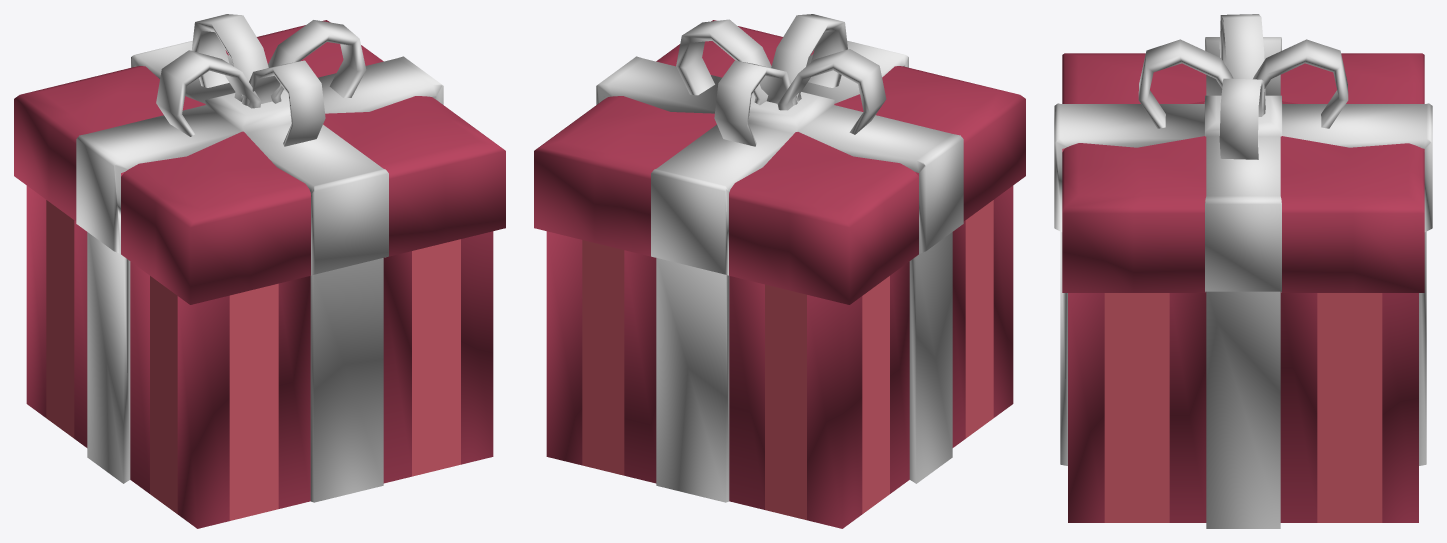
The model's file is presente.fbx.
The picture shows the model from 3 angles, left to right: view 1: azimuth 30°, elevation 25°; view 2: azimuth 150°, elevation 25°; view 3: azimuth 270°, elevation 25°; orthographic projection. The views are drawn at different scales.
Parts seen in each view (by area): view 1: Cube, Cube.001, Cube.002, Circle.001, Circle; view 2: Cube, Cube.001, Cube.002, Circle.001, Circle; view 3: Cube, Cube.001, Cube.002, Circle, Circle.001.
Part boxes in pixels (bbox=[...]): Cube: bbox=[14, 20, 505, 528]; Cube.001: bbox=[76, 40, 443, 502]; Cube.002: bbox=[46, 200, 460, 520]; Circle.001: bbox=[191, 14, 325, 146]; Circle: bbox=[156, 20, 366, 136]; Cube: bbox=[534, 20, 1025, 528]; Cube.001: bbox=[596, 40, 963, 502]; Cube.002: bbox=[582, 200, 993, 520]; Circle.001: bbox=[714, 14, 847, 146]; Circle: bbox=[676, 19, 886, 134]; Cube: bbox=[1062, 53, 1424, 522]; Cube.001: bbox=[1054, 37, 1432, 528]; Cube.002: bbox=[1104, 293, 1382, 522]; Circle: bbox=[1219, 14, 1265, 159]; Circle.001: bbox=[1138, 39, 1348, 128].
Bounding box in the file's own units: 223 × 253 × 215.
